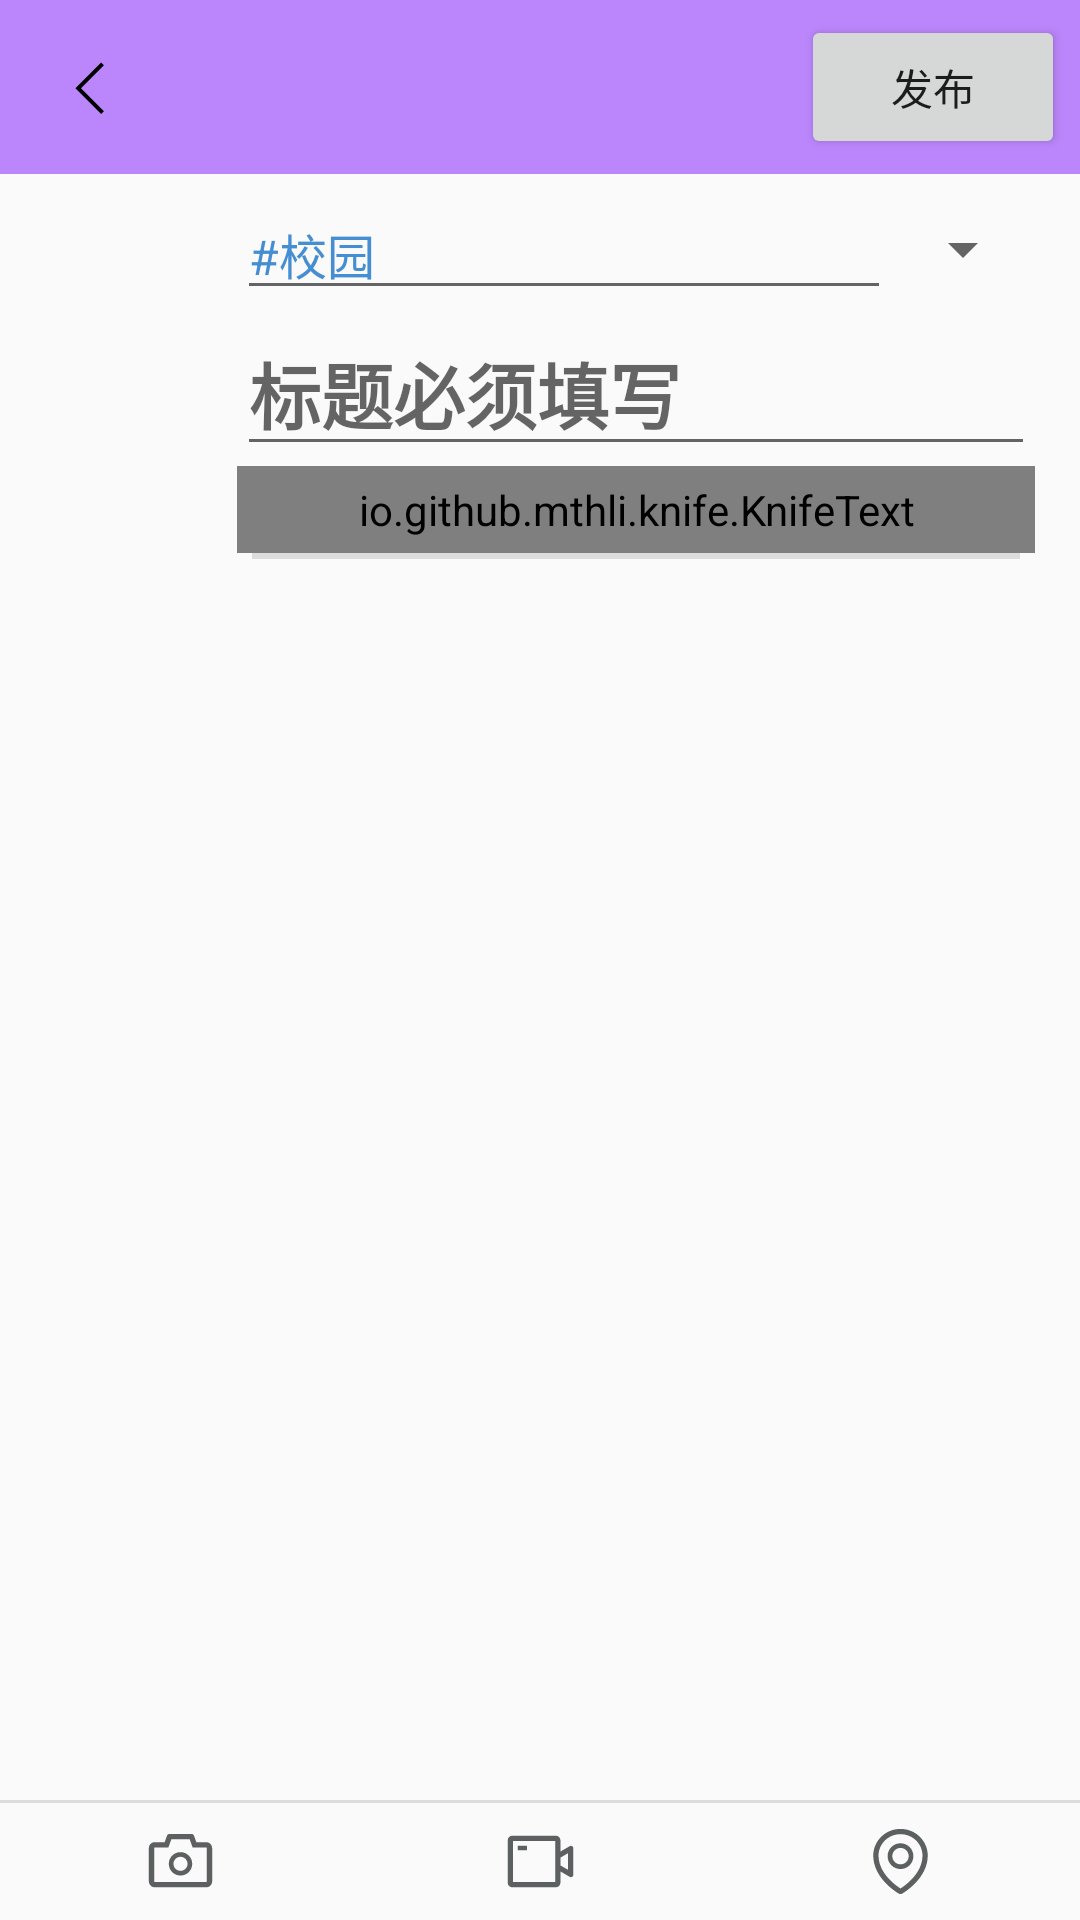

Named icons in this screenshot (1080px x 1920px) and their centers, (x,y):
camera: (180,1861)
location: (900,1861)
return: (89,88)
video: (540,1861)
